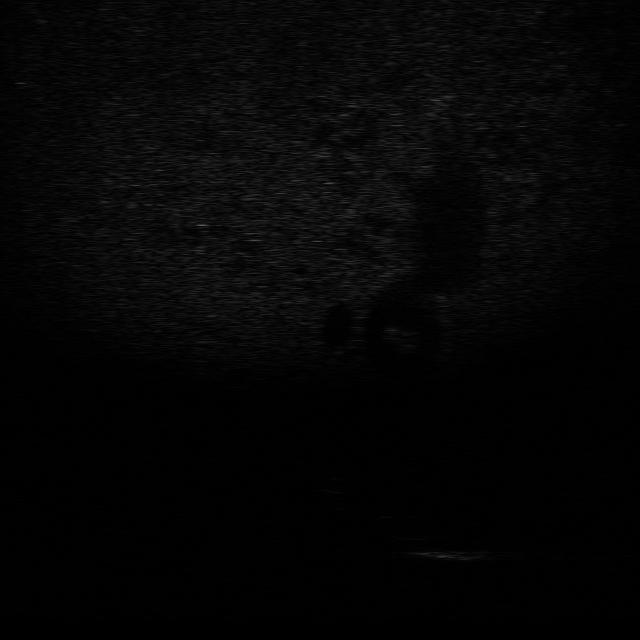ball: (318, 475, 357, 496)
metal bucket: (411, 546, 500, 564)
tyre: (368, 510, 440, 543)
